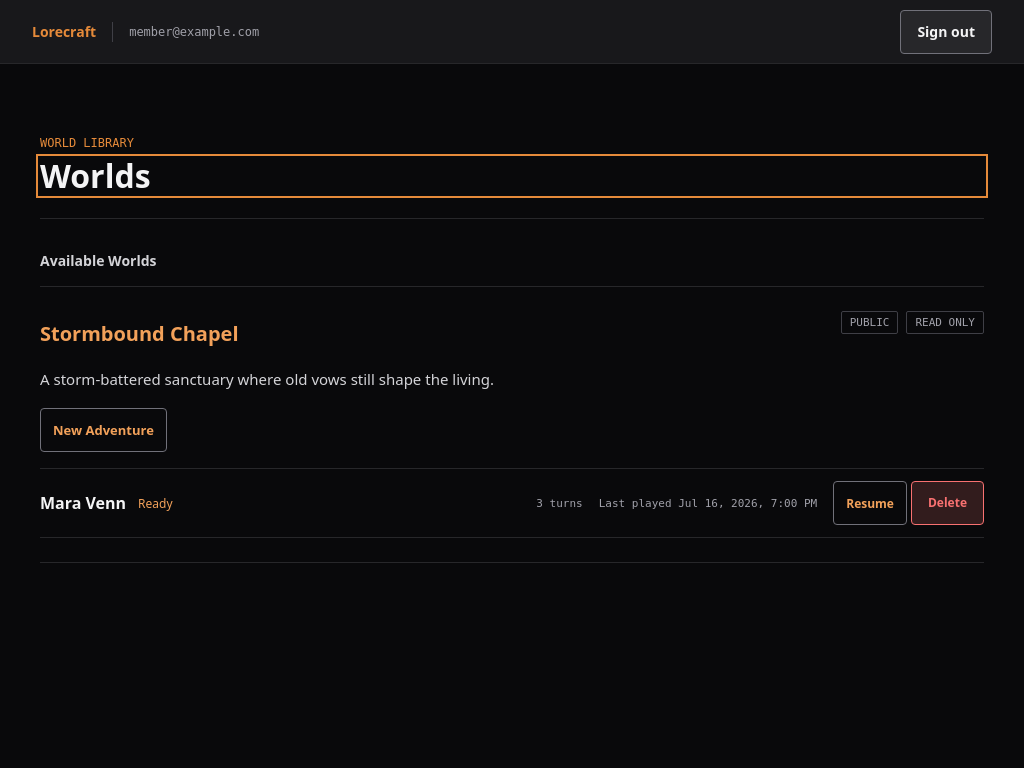
Test: World catalog and detail routes › lists and deletes an owner Adventure directly from the World catalog
Expected: the link with aria-label "Resume Adventure as Mara Venn" reads "Resume", [833,481,907,525]
Expected: the text "3 turns" is shown, [536,497,583,510]
Click the button with aria-label "Delete Adventure for Mara Venn": x=948, y=503 [911,481,984,525]
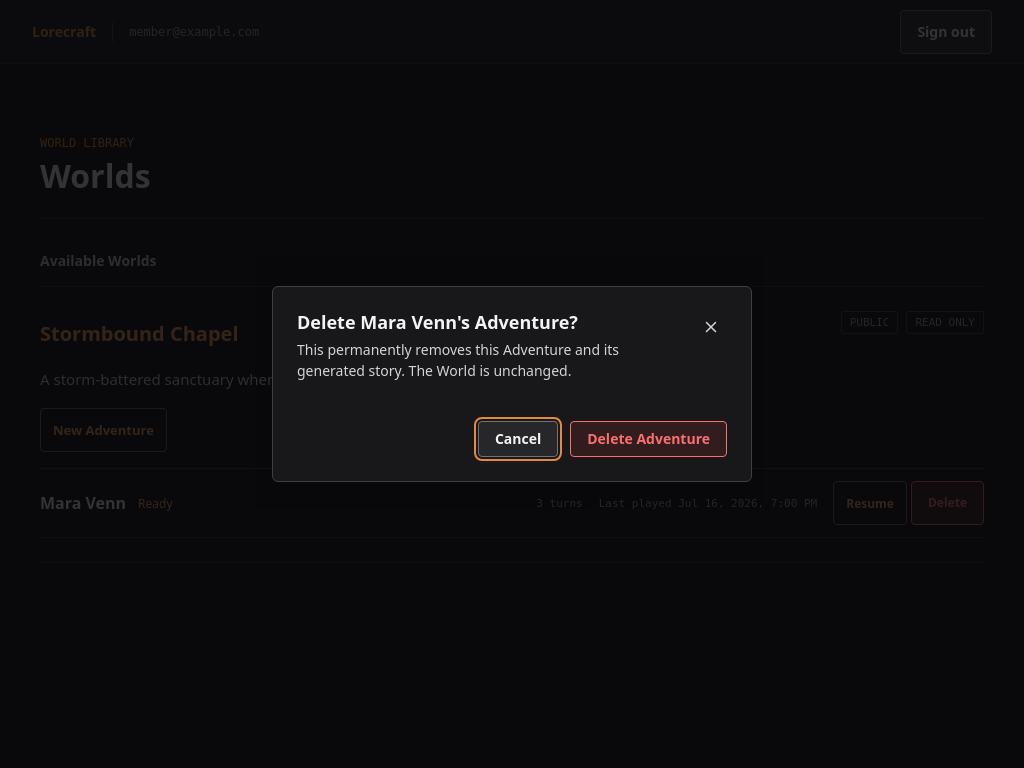
Expected: the dialog shows "The World is unchanged.", [297,340,619,380]
Click the button "Delete Adventure": x=649, y=439 [570,421,727,457]
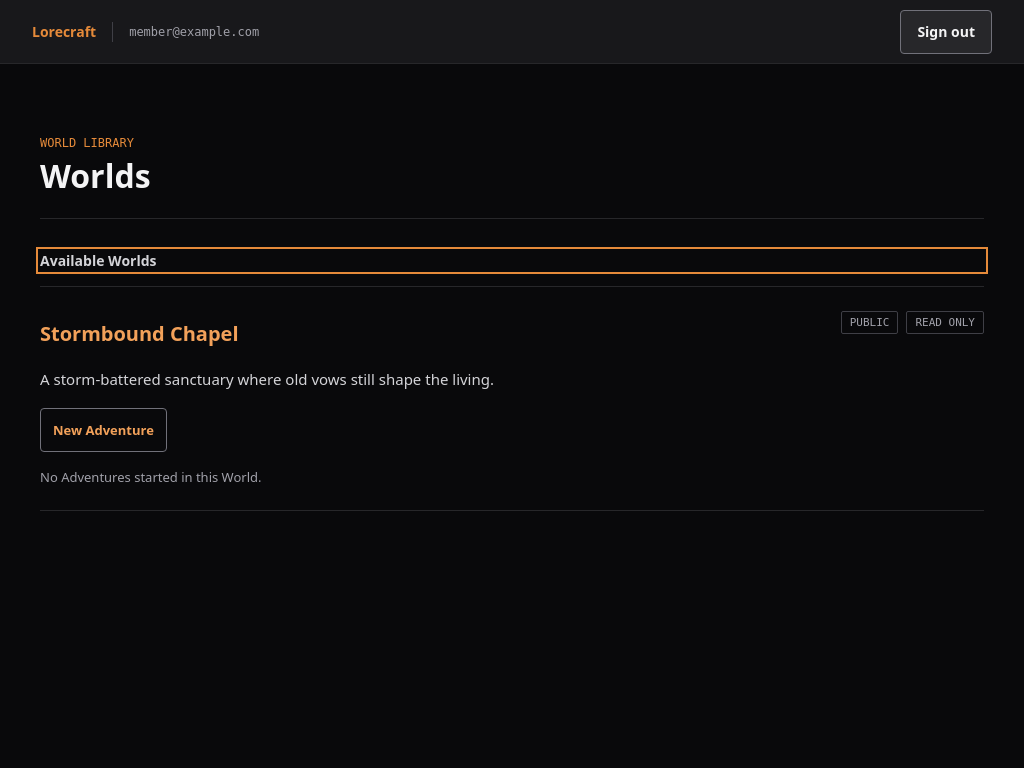
Expected: the text "No Adventures started in this World." is shown, [40,468,262,486]
